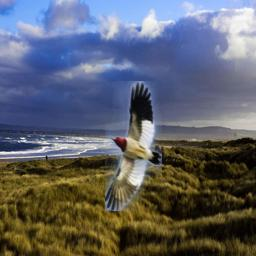Woodpecker: (105, 81, 162, 211)
